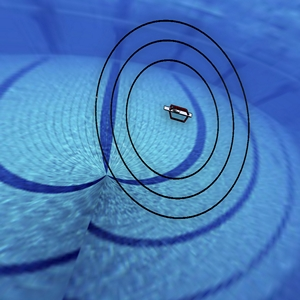circle: (91, 14, 254, 223)
submarine: (155, 95, 196, 132)
